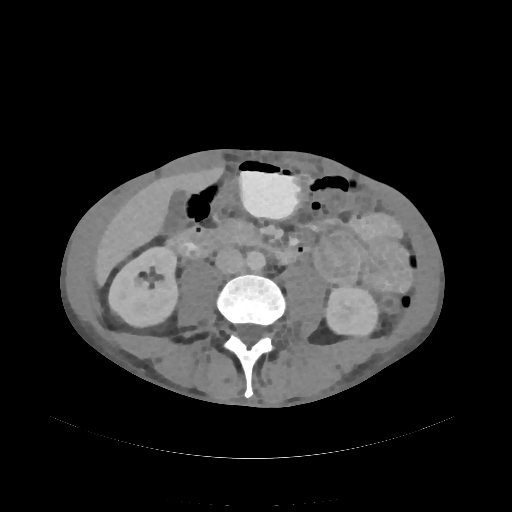Lesion: (371, 320, 382, 335)
